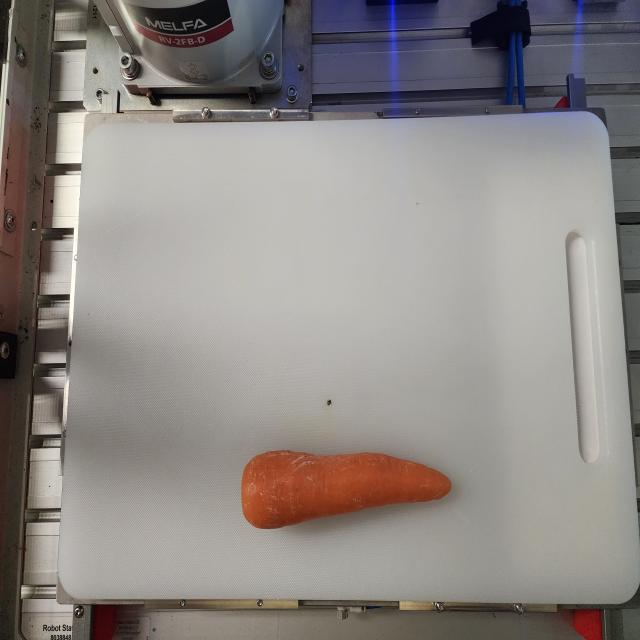carrot: (240, 449, 452, 529)
